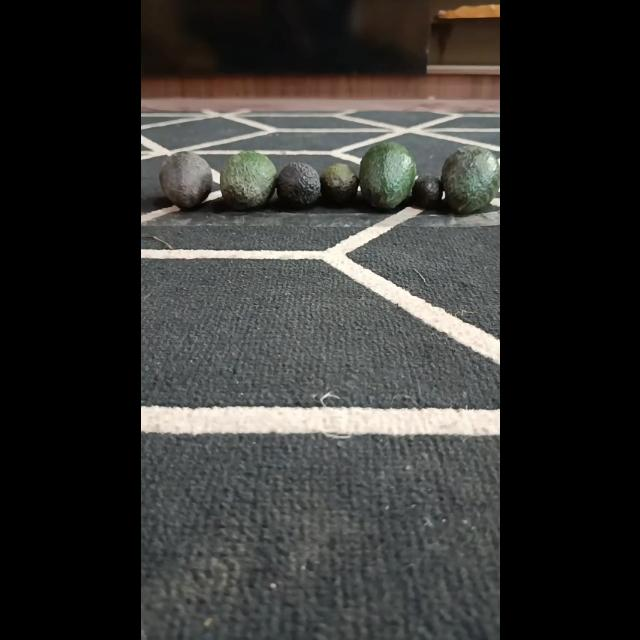Primera: (358, 140, 417, 210), (439, 146, 498, 214), (218, 150, 278, 210), (158, 151, 212, 209)
Segunda: (274, 162, 320, 208), (318, 162, 358, 205)
Tercera: (411, 174, 441, 210)
